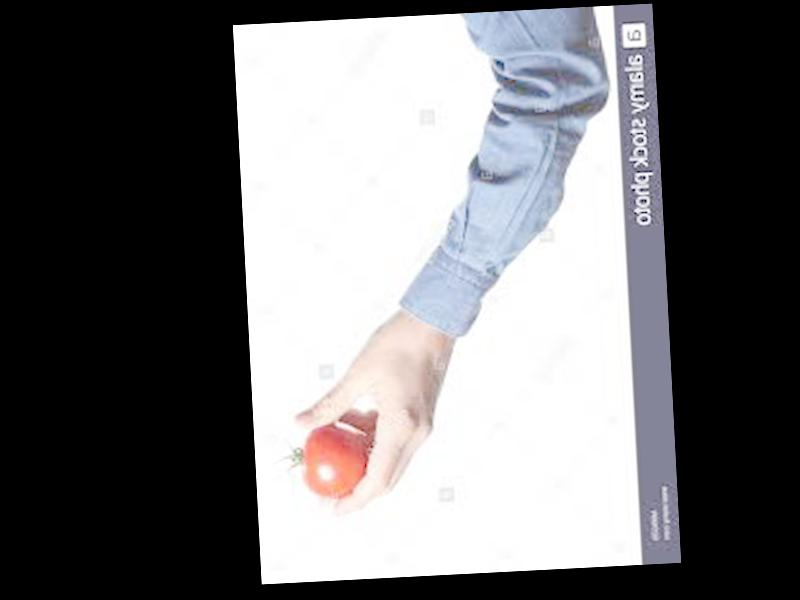Tomato: (302, 425, 367, 501)
